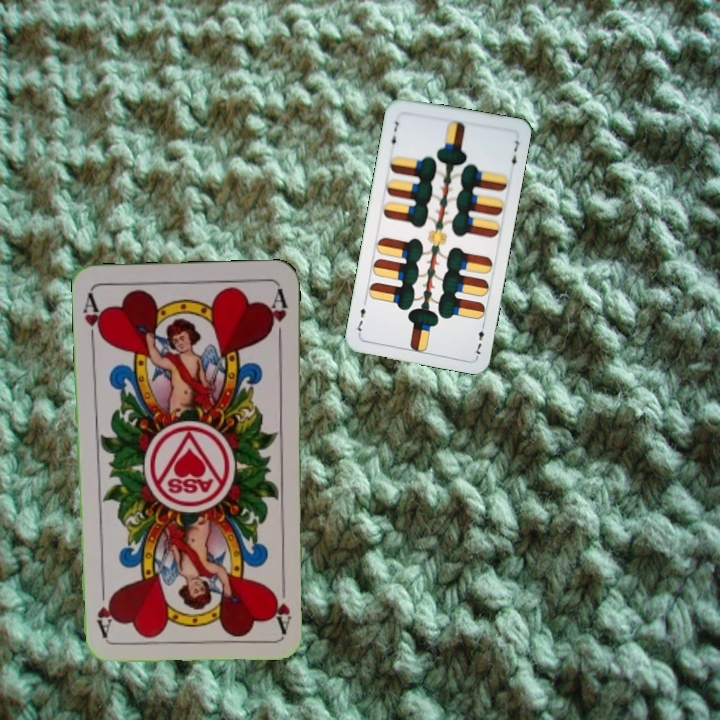E7: (470, 318, 488, 359), (386, 117, 401, 152)
HA: (79, 289, 107, 348), (272, 574, 294, 633)
